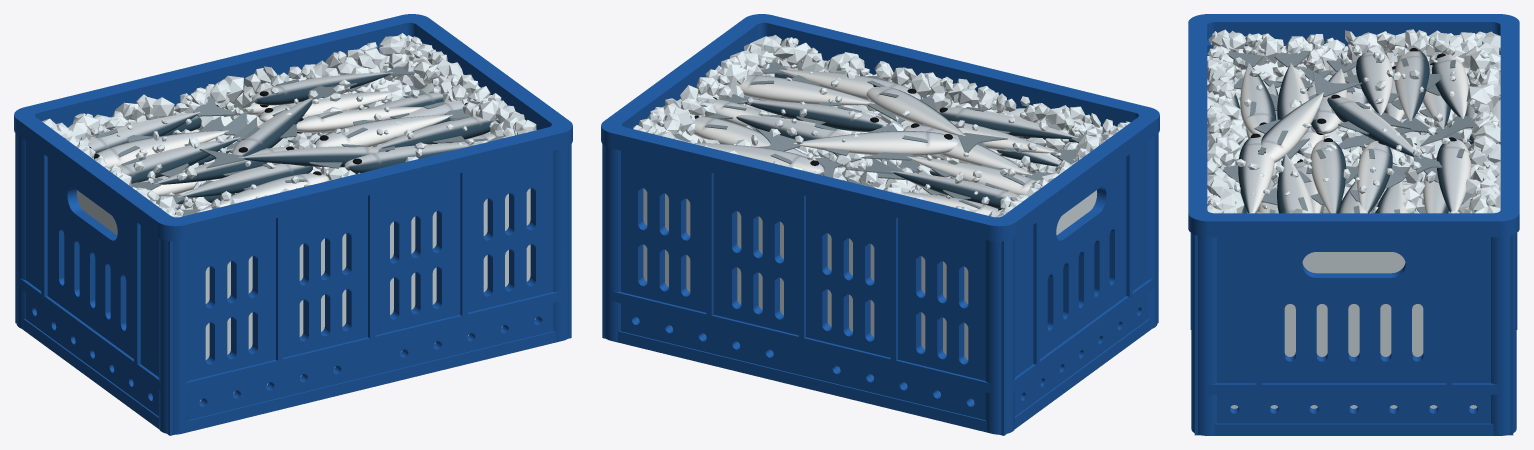
File: ikan di peti.glb
3 views of the same model, side by side, from view 1: azimuth 30°, elevation 25°; view 2: azimuth 150°, elevation 25°; view 3: azimuth 270°, elevation 25° (orthographic). The views are drawn at different scales.
Parts seen in each view (by area): view 1: crate_wall_long_front (×4), crate_rim, crate_wall_short_left, ice_chunks, crate_corner_post (×3), crate_base_skirt, crate_band, crate_rib (×5), ice_bed, crate_wall_long_back (×4), fish_23_body, fish_19_body (+15 smaller); view 2: crate_wall_long_back (×4), crate_wall_short_left, crate_rim, ice_chunks, crate_corner_post (×3), crate_base_skirt, crate_band, ice_bed, crate_rib (×5), crate_wall_long_front (×4), fish_26_body, fish_24_body (+14 smaller); view 3: crate_wall_short_right, ice_chunks, crate_rim, crate_corner_post (×2), ice_bed, crate_base_skirt, crate_band, crate_wall_long_front (×4), crate_wall_long_back (×4), crate_rib (×2), crate_wall_short_left, fish_23_body (+23 smaller).
Boxes of the visible parts, <box> form: crate_wall_long_front (×4): <box>165,123,571,435</box>; crate_rim: <box>14,14,572,241</box>; crate_wall_short_left: <box>21,114,173,416</box>; ice_chunks: <box>42,33,536,217</box>; crate_corner_post (×3): <box>16,134,568,434</box>; crate_base_skirt: <box>22,319,558,432</box>; crate_band: <box>19,278,561,393</box>; crate_rib (×5): <box>41,152,467,364</box>; ice_bed: <box>76,69,535,401</box>; crate_wall_long_back (×4): <box>15,14,421,323</box>; fish_23_body: <box>314,114,452,147</box>; fish_19_body: <box>177,163,312,197</box>; crate_wall_long_back (×4): <box>602,123,1008,435</box>; crate_wall_short_left: <box>1000,114,1152,416</box>; crate_rim: <box>601,14,1159,241</box>; ice_chunks: <box>633,35,1130,217</box>; crate_corner_post (×3): <box>605,134,1157,434</box>; crate_base_skirt: <box>615,319,1151,432</box>; crate_band: <box>612,278,1154,393</box>; ice_bed: <box>638,59,1097,401</box>; crate_rib (×5): <box>706,152,1132,364</box>; crate_wall_long_front (×4): <box>752,14,1158,323</box>; fish_26_body: <box>793,131,958,156</box>; fish_24_body: <box>739,75,874,105</box>; crate_wall_short_right: <box>1205,214,1502,423</box>; ice_chunks: <box>1207,29,1500,213</box>; crate_rim: <box>1188,14,1519,237</box>; crate_corner_post (×2): <box>1191,233,1516,435</box>; ice_bed: <box>1207,45,1500,408</box>; crate_base_skirt: <box>1210,423,1497,435</box>; crate_band: <box>1208,383,1499,394</box>; crate_wall_long_front (×4): <box>1194,16,1205,435</box>; crate_wall_long_back (×4): <box>1502,16,1513,435</box>; crate_rib (×2): <box>1255,237,1452,384</box>; crate_wall_short_left: <box>1205,16,1502,46</box>; fish_23_body: <box>1310,139,1346,213</box>.
Size of the model in its own units: 0.616 by 0.3 by 0.416.
